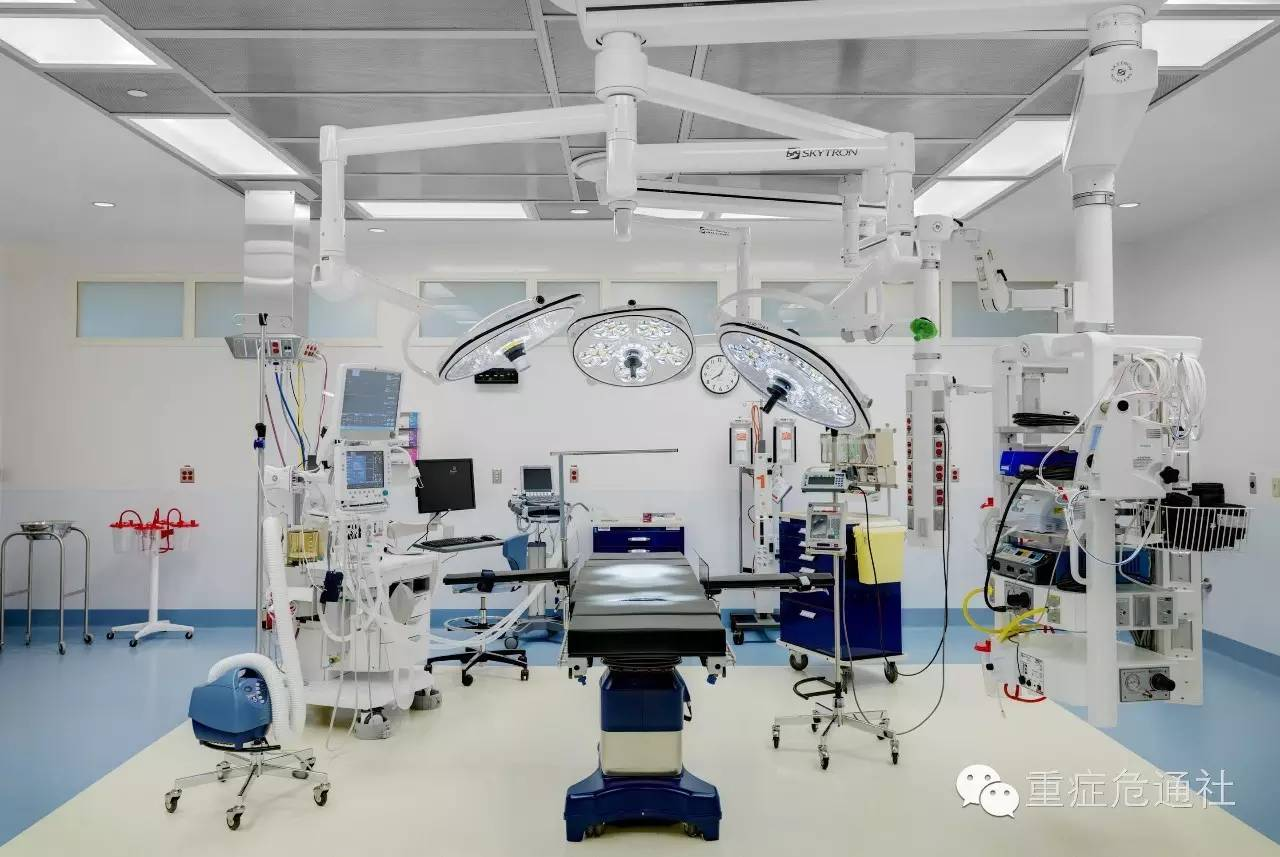bedside_monitor: (336, 360, 403, 432), (335, 446, 391, 503), (518, 463, 555, 494)
computer: (414, 457, 478, 515)
electrosurgical_unit: (987, 545, 1053, 589)
infusion_pump: (772, 421, 800, 470), (726, 419, 754, 468), (799, 468, 848, 495)
iv_pole: (233, 311, 296, 654)
keyboard: (420, 537, 484, 548)
medical_drawer: (783, 508, 901, 658)
mouse: (479, 534, 498, 541)
operating_bed: (557, 552, 738, 841)
surgical_light: (718, 318, 874, 438), (437, 287, 586, 383), (565, 299, 696, 389)
ventilator: (261, 442, 438, 741)
